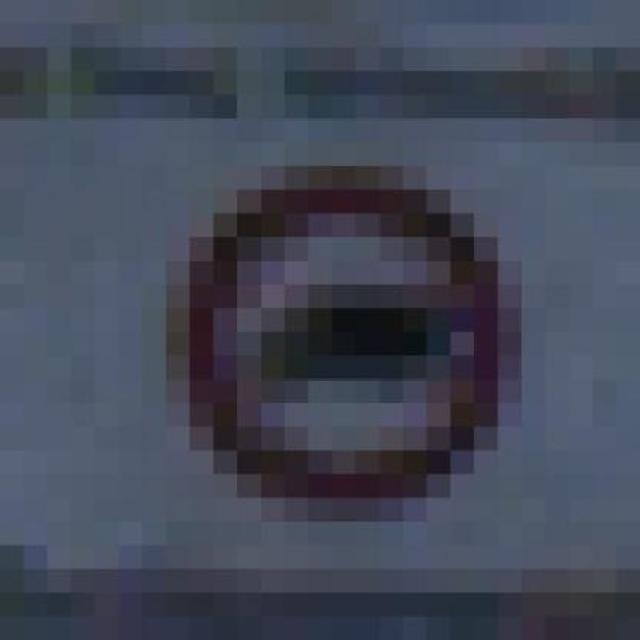Truck traffic is prohibited: (142, 118, 522, 545)
